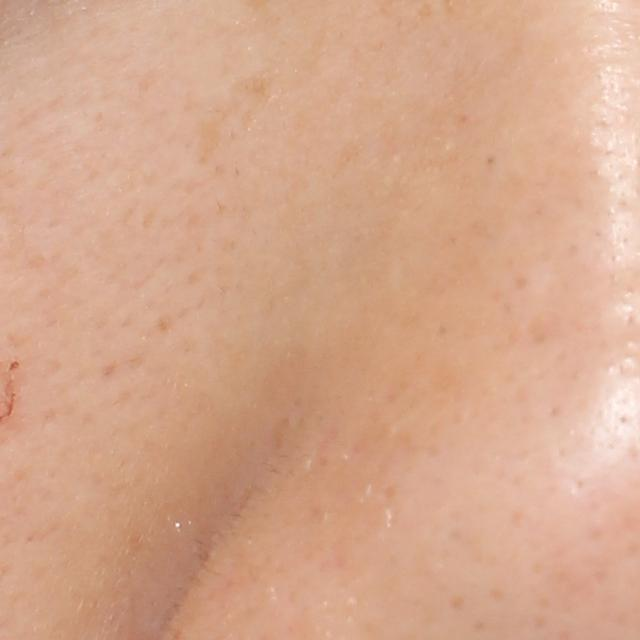melasma: (185, 73, 277, 169)
